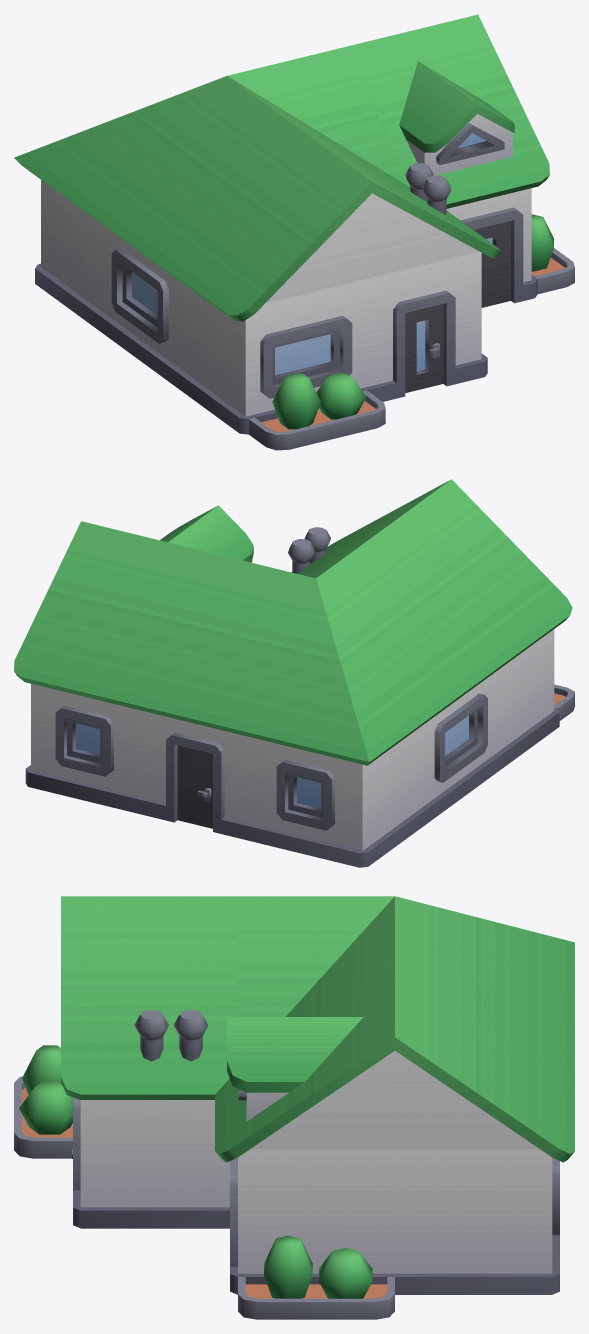
The model's file is building-type-m.glb.
The picture shows the model from 3 angles, top to bottom: view 1: azimuth 30°, elevation 25°; view 2: azimuth 150°, elevation 25°; view 3: azimuth 270°, elevation 25°; orthographic projection. The views are drawn at different scales.
Parts seen in each view (by area): view 1: building-type-m; view 2: building-type-m; view 3: building-type-m.
Boxes of the visible parts, x1=… form: building-type-m: x1=14, y1=14, x2=574, y2=450; building-type-m: x1=14, y1=479, x2=574, y2=867; building-type-m: x1=14, y1=896, x2=574, y2=1319.
Size of the model in its own units: 1.43 by 0.7375 by 1.43.
Materials: 1 (1 with a texture image).
